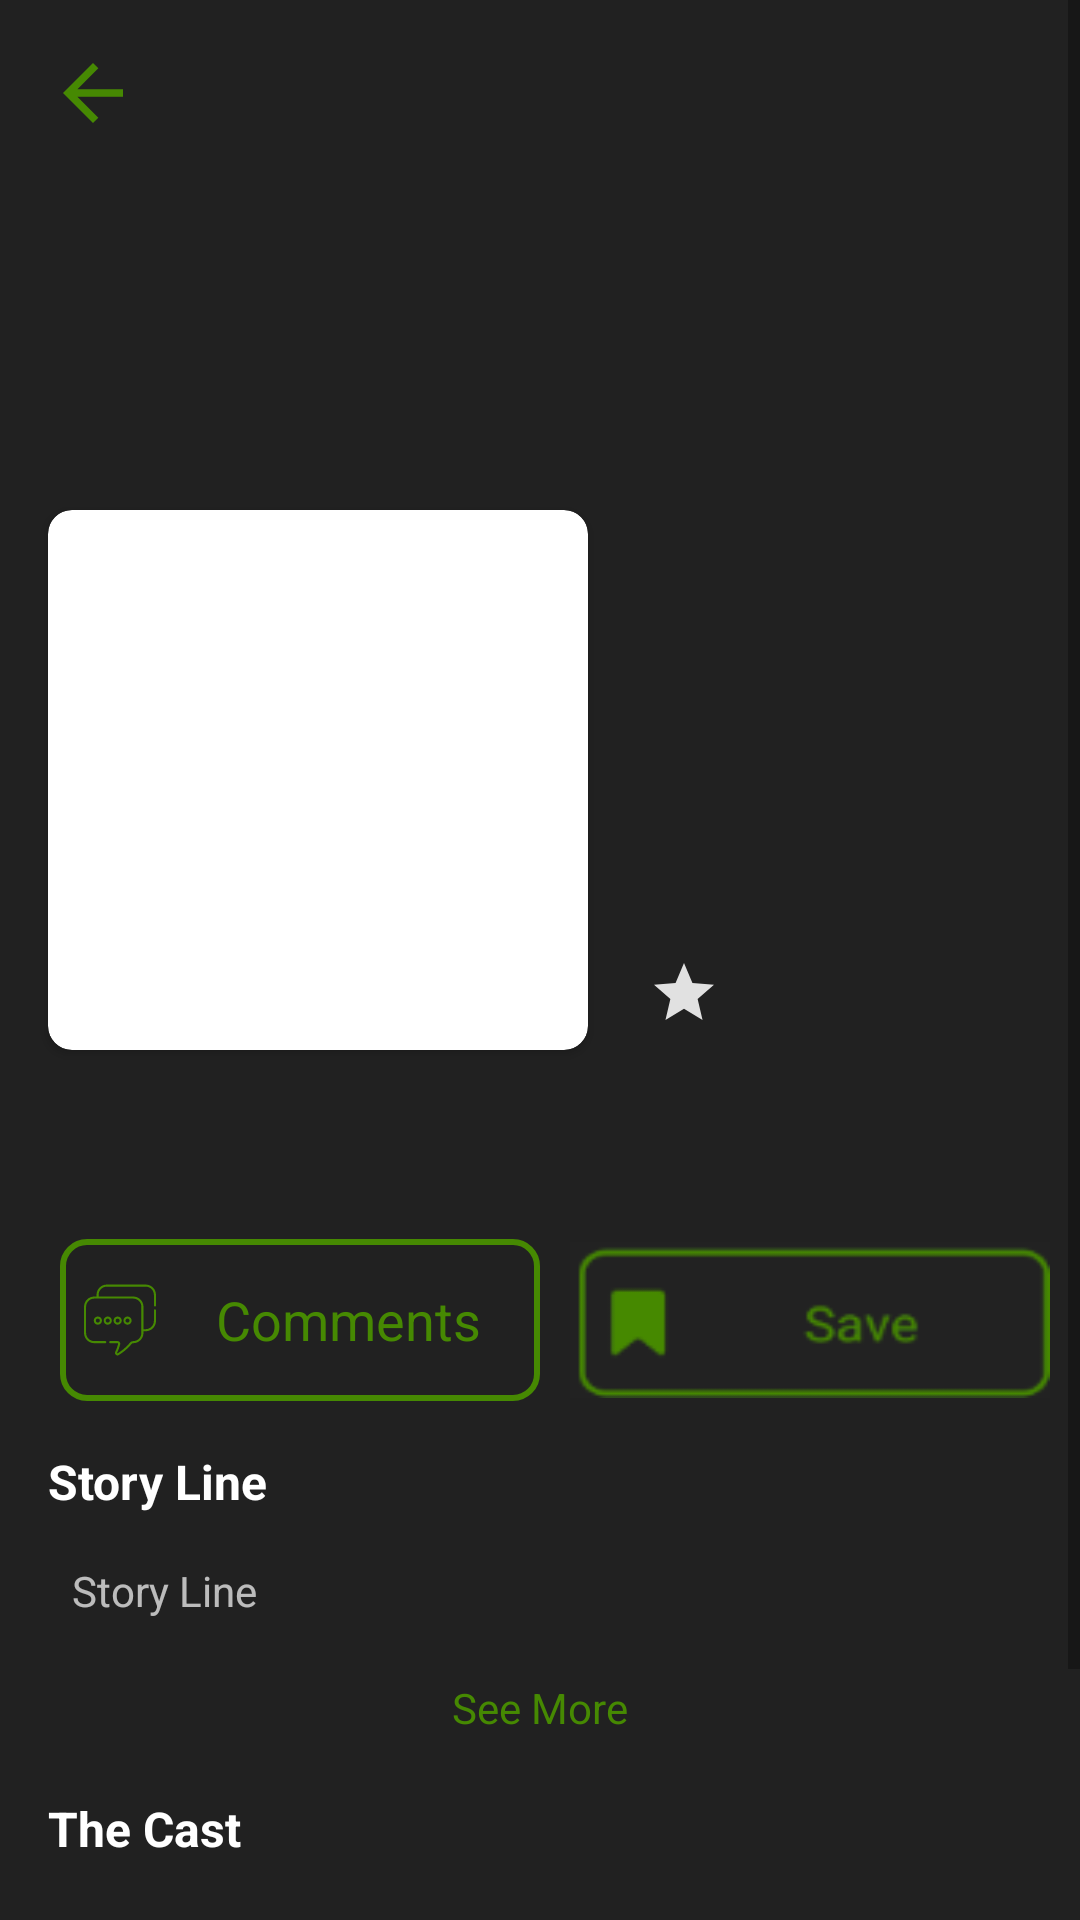

Named icons in this screenshot (1080px×1920px) and their bounding boxes, bbox=[x1, y1, x2, y2]:
back: bbox=[63, 63, 123, 123]
